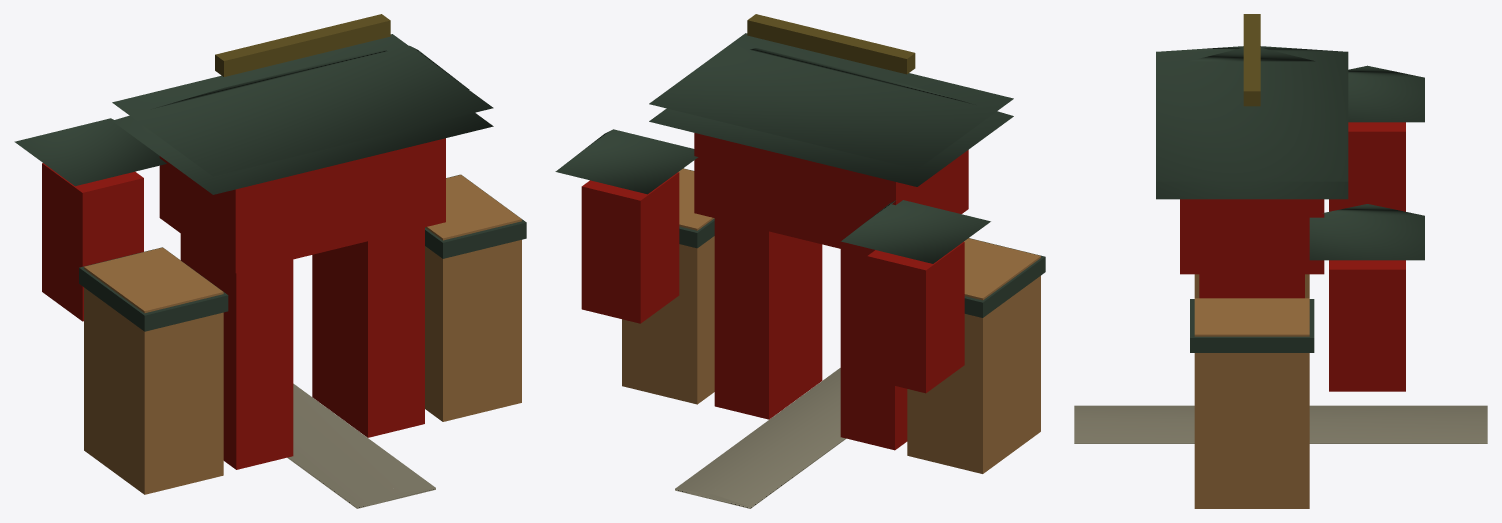
Rendered from Kaiyangmen.fbx.
The picture shows the model from 3 angles, left to right: view 1: azimuth 30°, elevation 25°; view 2: azimuth 150°, elevation 25°; view 3: azimuth 270°, elevation 25°; orthographic projection. The views are drawn at different scales.
Visible parts, largest first — view 1: gate_roof, east_wall_2, gate_house, west_pier, east_wall, east_pier, west_wall, west_wall_2, east_que, passage_road, gate_roof_2, east_que_roof (+3 smaller); view 2: gate_roof, west_pier, east_wall_2, gate_house, west_que, east_que, west_wall, passage_road, east_pier, gate_roof_2, east_wall, east_que_roof (+5 smaller); view 3: gate_roof, west_wall_2, west_wall, passage_road, gate_house, west_que, west_que_roof, east_que, gate_roof_2, east_que_roof, west_pier, west_wall_coping (+1 smaller).
Part boxes in pixels (x1=…): gate_roof: x1=112, y1=34, x2=493, y2=176; east_wall_2: x1=84, y1=247, x2=223, y2=494; gate_house: x1=159, y1=138, x2=445, y2=273; west_pier: x1=312, y1=227, x2=424, y2=437; east_wall: x1=84, y1=287, x2=223, y2=494; east_pier: x1=180, y1=233, x2=293, y2=469; west_wall: x1=425, y1=240, x2=521, y2=421; west_wall_2: x1=425, y1=175, x2=521, y2=421; east_que: x1=42, y1=163, x2=143, y2=321; passage_road: x1=287, y1=383, x2=435, y2=508; gate_roof_2: x1=112, y1=49, x2=493, y2=194; east_que_roof: x1=14, y1=118, x2=166, y2=186; gate_roof: x1=649, y1=33, x2=1013, y2=169; west_pier: x1=714, y1=218, x2=822, y2=419; east_wall_2: x1=907, y1=238, x2=1040, y2=473; gate_house: x1=694, y1=133, x2=968, y2=255; west_que: x1=581, y1=172, x2=679, y2=323; east_que: x1=867, y1=241, x2=964, y2=393; west_wall: x1=622, y1=236, x2=714, y2=404; passage_road: x1=675, y1=368, x2=846, y2=508; east_pier: x1=840, y1=249, x2=907, y2=450; gate_roof_2: x1=649, y1=48, x2=1013, y2=186; east_wall: x1=907, y1=276, x2=1040, y2=473; east_que_roof: x1=841, y1=200, x2=990, y2=263; gate_roof: x1=1156, y1=46, x2=1348, y2=181; west_wall_2: x1=1194, y1=298, x2=1309, y2=508; west_wall: x1=1194, y1=353, x2=1309, y2=508; passage_road: x1=1074, y1=405, x2=1487, y2=443; gate_house: x1=1180, y1=199, x2=1324, y2=274; west_que: x1=1329, y1=260, x2=1405, y2=391; west_que_roof: x1=1309, y1=204, x2=1424, y2=260; east_que: x1=1329, y1=122, x2=1405, y2=211; gate_roof_2: x1=1156, y1=47, x2=1348, y2=199; east_que_roof: x1=1348, y1=65, x2=1424, y2=122; west_pier: x1=1199, y1=274, x2=1304, y2=298; west_wall_coping: x1=1190, y1=299, x2=1314, y2=352.
Size of the model in its own units: 90 by 87.75 by 86.
